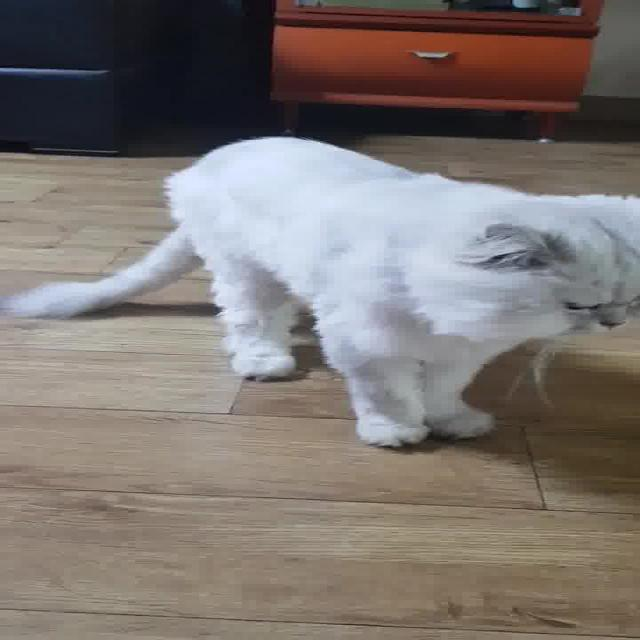cat: (0, 109, 640, 460)
